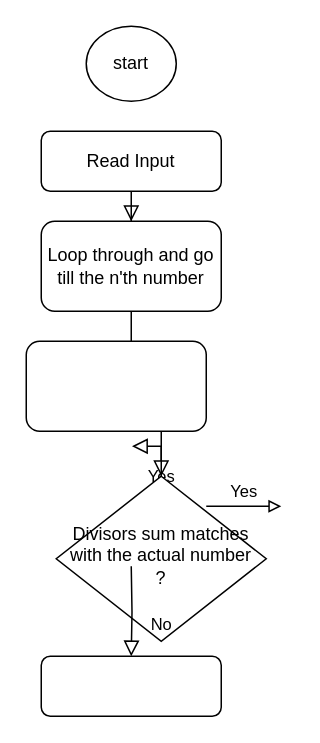
Some shapes in this 320 by 743 pixel diagram are drawn without their labels. The shapes that lost their labels are listed below. From the top down, each one's box as (x1, y1, x2, y2) in pixels, then its label:
(25, 340, 206, 431): Check the Divisors and sum to check
(40, 655, 221, 716): Repair Lamp
